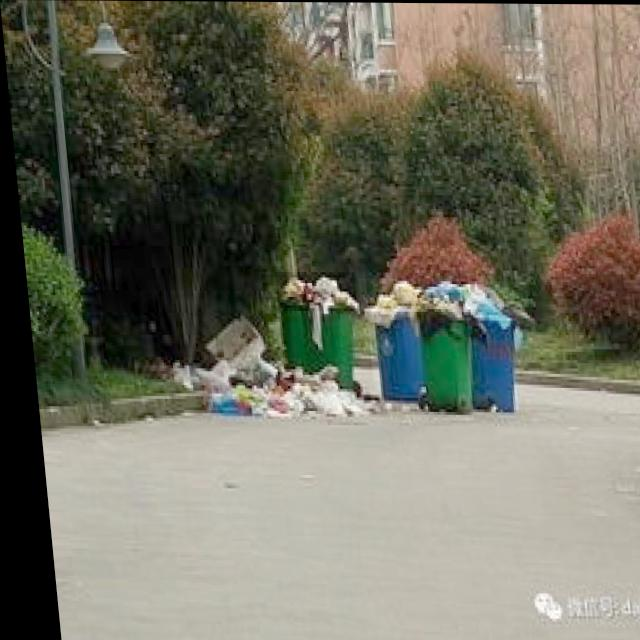garbage: (157, 310, 368, 414)
overflow: (269, 271, 357, 383), (405, 278, 467, 409), (353, 278, 417, 397), (455, 281, 511, 409)
